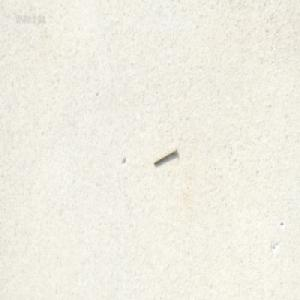Bolt: (152, 145, 176, 165)
